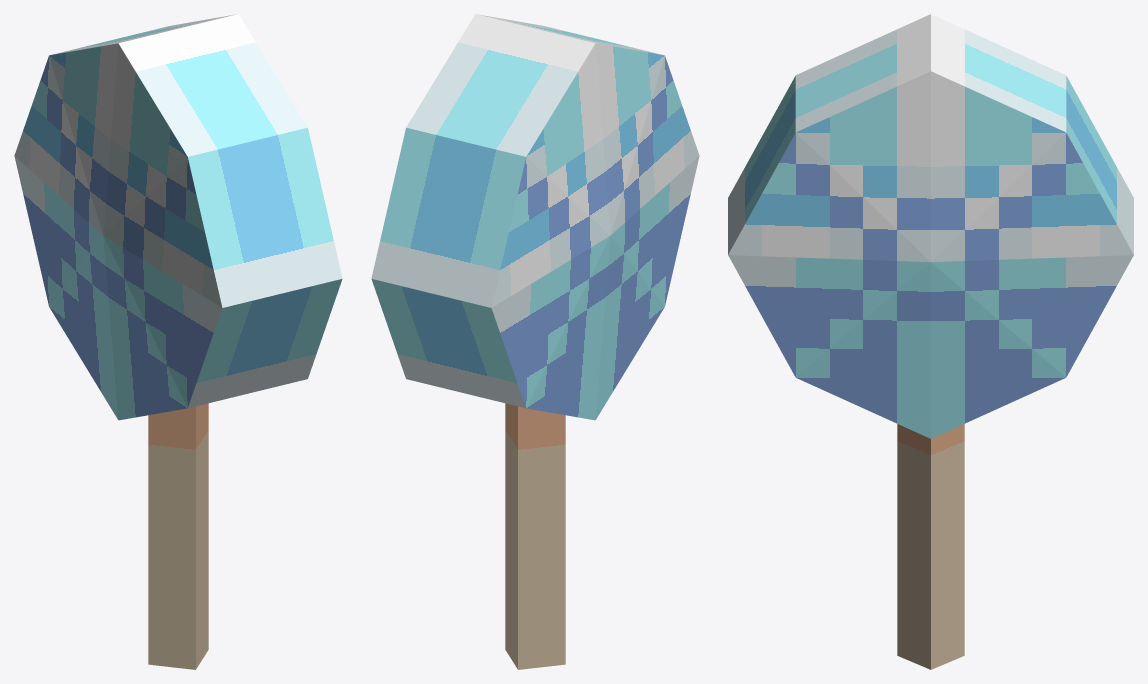
File: lollipop.fbx
3 renders of one model, left to right at view 1: azimuth 30°, elevation 25°; view 2: azimuth 150°, elevation 25°; view 3: azimuth 270°, elevation 25°, orthographic. The views are drawn at different scales.
Visible parts, largest first — view 1: Plane.004; view 2: Plane.004; view 3: Plane.004.
Part boxes in pixels (left/top/right/bottom): Plane.004: left=14, top=14, right=342, bottom=669; Plane.004: left=371, top=14, right=699, bottom=669; Plane.004: left=728, top=14, right=1133, bottom=669.
Bounding box in the file's own units: 15.62 × 62.5 × 37.5.
1 material, 1 textured.
